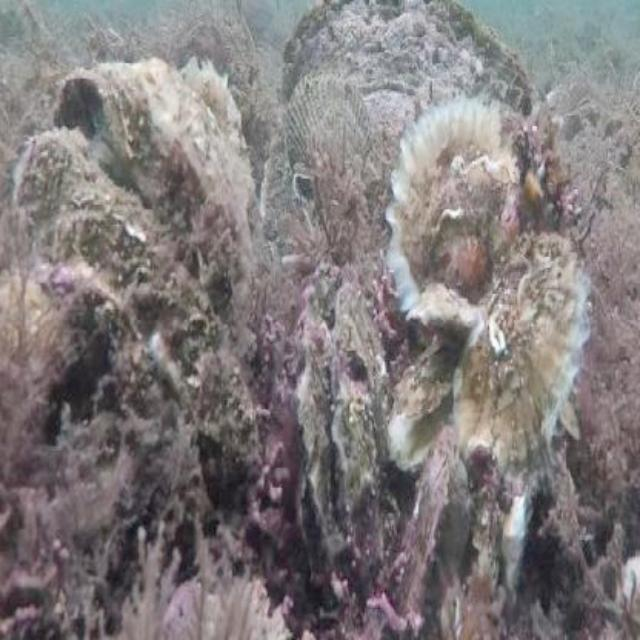Oyster-Closed: (14, 129, 257, 477), (55, 328, 205, 580), (456, 229, 592, 482), (394, 104, 521, 313), (0, 268, 110, 438), (333, 292, 385, 563), (393, 447, 472, 623), (298, 284, 339, 547), (410, 289, 485, 335)
Oyster-Open: (393, 377, 455, 466)
